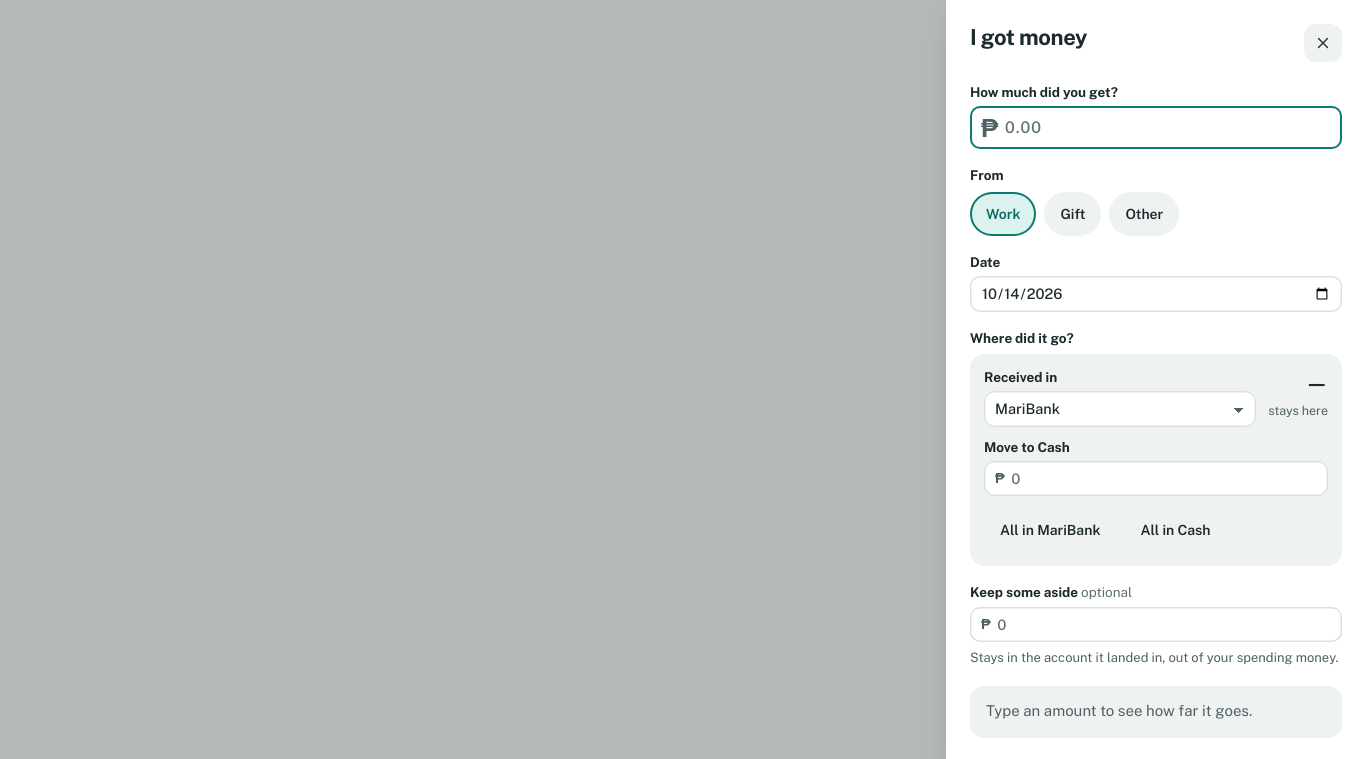
Test: ReceiveMoney › 'All in' puts everything in one account
In the field labelled "How much did you get?": (1168, 128) [1004,106,1331,149], type "1500"
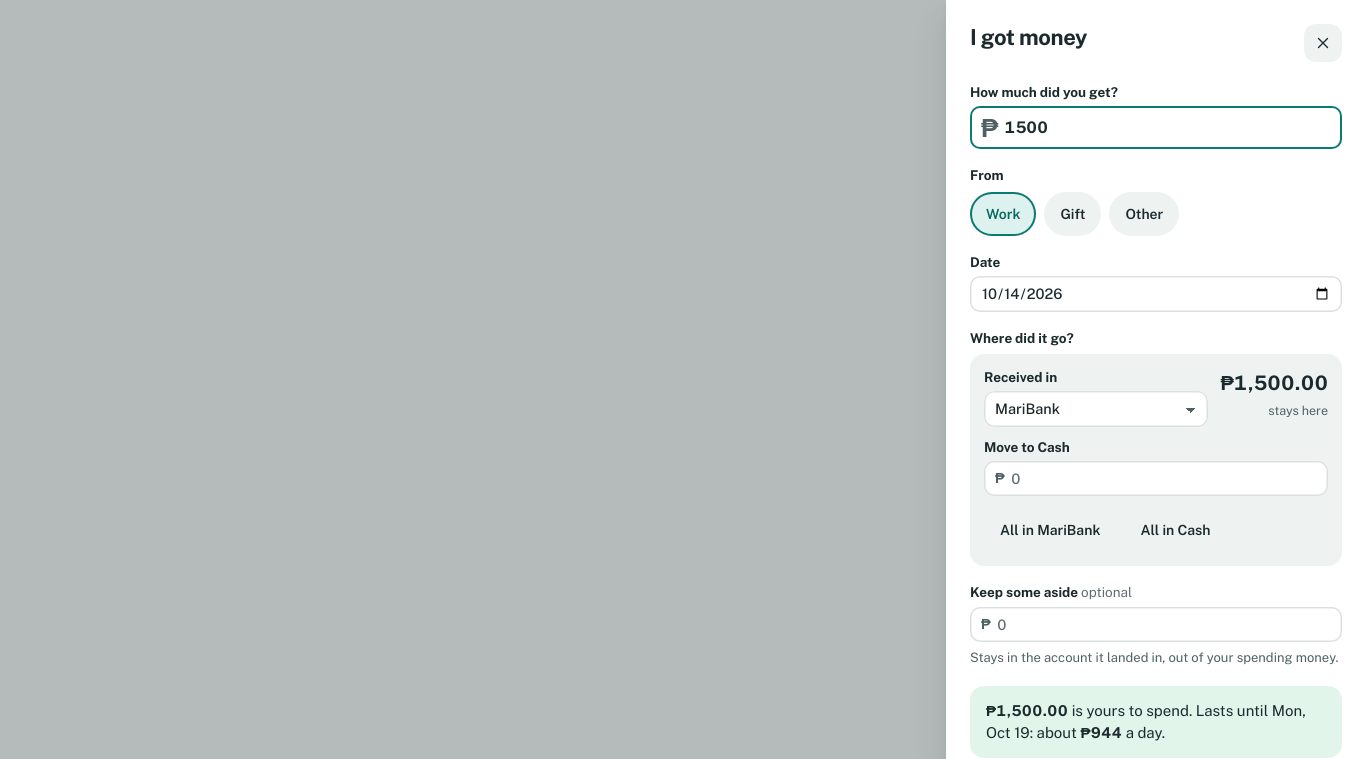
In the field labelled "Move to Cash": (1164, 479) [1011,461,1317,496], type "500"
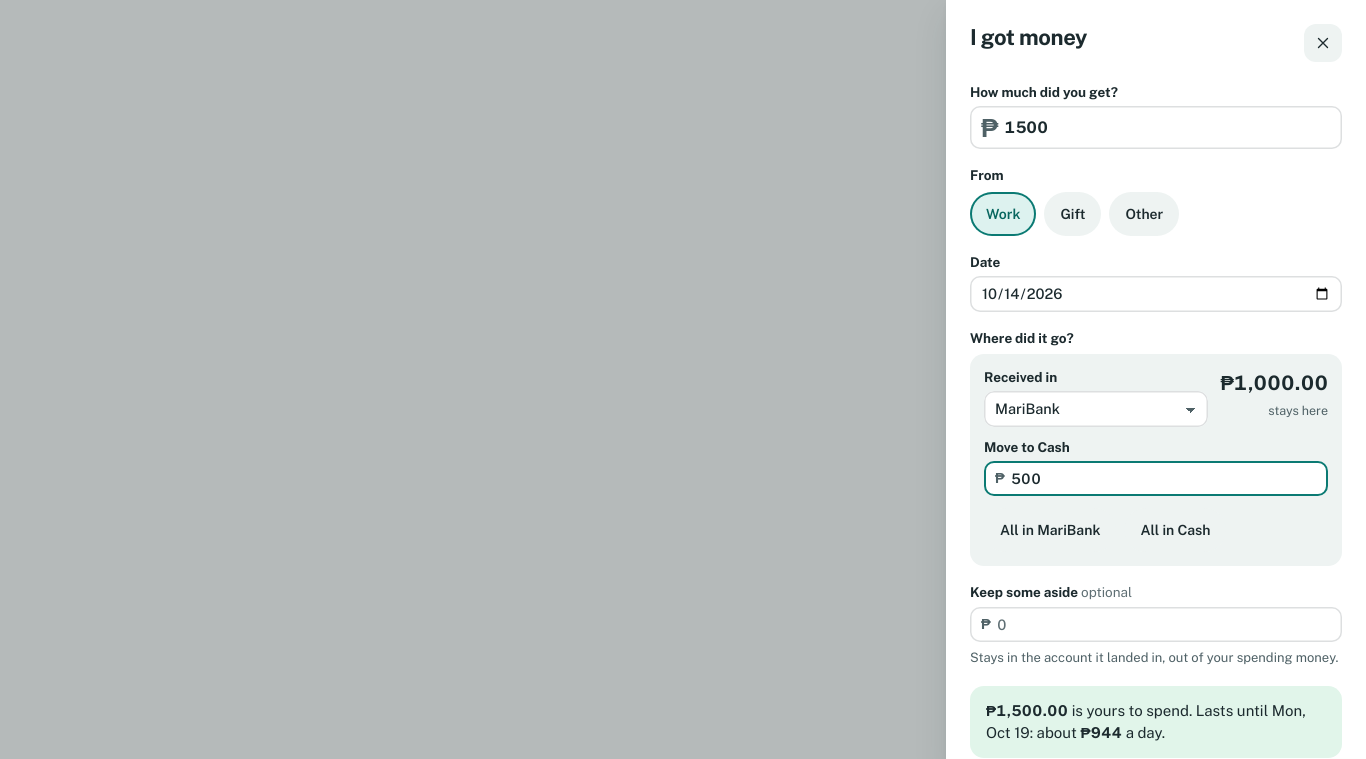
Click the button with test id "all-in-acc-cash": (1175, 530) [1124,508,1226,552]
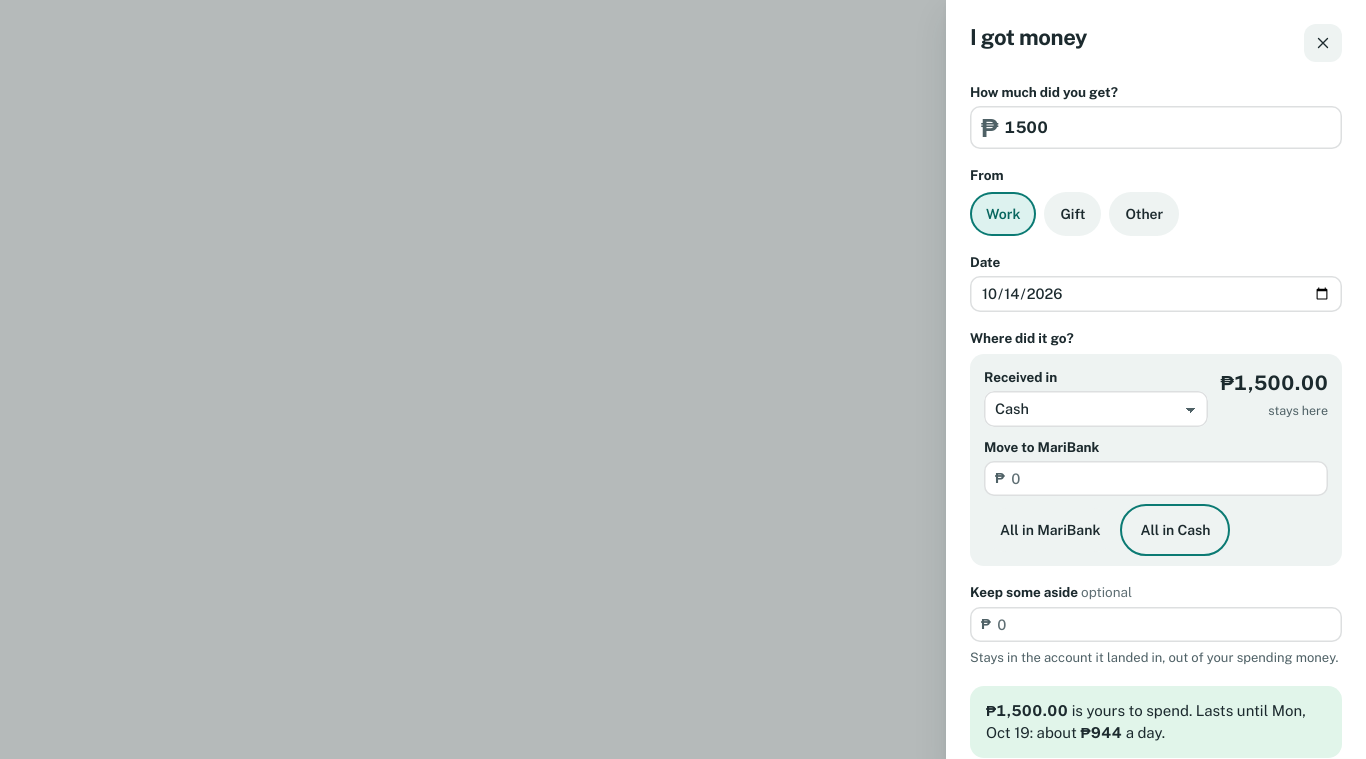
Now the dropdown with test id "received-in" shows "Cash", box [984,391,1208,427]
Now the text with test id "received-in-amount" reads "₱1,500.00", box [1220,371,1328,395]
